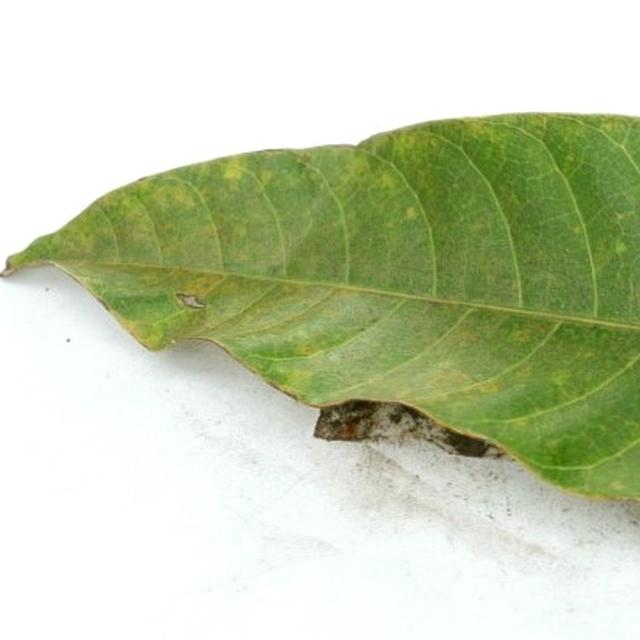Mango: (8, 114, 639, 500)
Powdery_Mildew: (313, 323, 425, 370), (167, 270, 236, 312), (519, 161, 576, 206), (396, 202, 429, 231), (215, 164, 263, 183), (282, 368, 319, 389), (138, 324, 167, 348), (375, 170, 399, 192), (473, 380, 501, 392), (513, 328, 535, 342), (508, 416, 533, 428), (551, 372, 571, 386), (297, 344, 319, 356), (614, 237, 628, 255), (614, 210, 632, 223), (327, 350, 345, 362), (610, 479, 627, 491), (547, 438, 562, 450), (565, 153, 575, 163), (574, 225, 583, 234)
